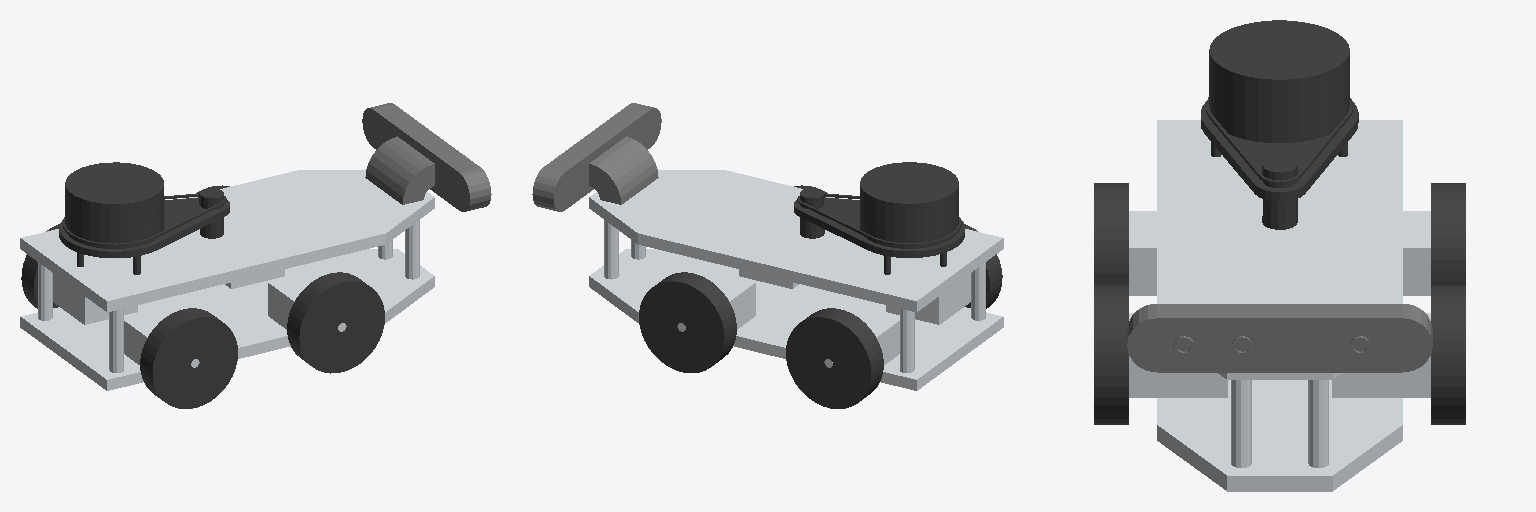
URDF robot description (text_car):
<?xml version="1.0" encoding="utf-8"?>
<!-- This URDF was automatically created by SolidWorks to URDF Exporter! Originally created by [author] ([email redacted]) 
     Commit Version: 1.5.1-0-g916b5db  Build Version: 1.5.7152.31018
     For more information, please see http://wiki.ros.org/sw_urdf_exporter -->
<robot
  name="text_car">
  <link
    name="base_link">
    <inertial>
      <origin
        xyz="0.0050911 4.8892E-07 0.01783"
        rpy="0 0 0" />
      <mass
        value="0.42367" />
      <inertia
        ixx="0.00033421"
        ixy="-1.3671E-08"
        ixz="-8.3492E-06"
        iyy="0.00091098"
        iyz="-4.4951E-10"
        izz="0.0010494" />
    </inertial>
    <visual>
      <origin
        xyz="0 0 0"
        rpy="0 0 0" />
      <geometry>
        <mesh
          filename="package://text_car/meshes/base_link.STL" />
      </geometry>
      <material
        name="">
        <color
          rgba="0.89804 0.91765 0.92941 1" />
      </material>
    </visual>
    <collision>
      <origin
        xyz="0 0 0"
        rpy="0 0 0" />
      <geometry>
        <mesh
          filename="package://text_car/meshes/base_link.STL" />
      </geometry>
    </collision>
  </link>
  <link
    name="wheel_lf_link">
    <inertial>
      <origin
        xyz="0 6.9389E-18 0"
        rpy="0 0 0" />
      <mass
        value="0.014421" />
      <inertia
        ixx="1.5767E-06"
        ixy="2.3673E-22"
        ixz="3.9409E-23"
        iyy="2.9131E-06"
        iyz="1.0804E-22"
        izz="1.5767E-06" />
    </inertial>
    <visual>
      <origin
        xyz="0 0 0"
        rpy="0 0 0" />
      <geometry>
        <mesh
          filename="package://text_car/meshes/wheel_lf_link.STL" />
      </geometry>
      <material
        name="">
        <color
          rgba="0.29804 0.29804 0.29804 1" />
      </material>
    </visual>
    <collision>
      <origin
        xyz="0 0 0"
        rpy="0 0 0" />
      <geometry>
        <mesh
          filename="package://text_car/meshes/wheel_lf_link.STL" />
      </geometry>
    </collision>
  </link>
  <joint
    name="wheel_lf_joint"
    type="continuous">
    <origin
      xyz="0.030252 0.047909 0.0125"
      rpy="0 0 0" />
    <parent
      link="base_link" />
    <child
      link="wheel_lf_link" />
    <axis
      xyz="0 1 0" />
  </joint>
  <link
    name="wheel_lb_link">
    <inertial>
      <origin
        xyz="0 0 0"
        rpy="0 0 0" />
      <mass
        value="0.0144212674480035" />
      <inertia
        ixx="1.57672524098172E-06"
        ixy="1.13741391677082E-22"
        ixz="5.13225232109595E-23"
        iyy="2.91309602449671E-06"
        iyz="-8.7136673847894E-23"
        izz="1.57672524098172E-06" />
    </inertial>
    <visual>
      <origin
        xyz="0 0 0"
        rpy="0 0 0" />
      <geometry>
        <mesh
          filename="package://text_car/meshes/wheel_lb_link.STL" />
      </geometry>
      <material
        name="">
        <color
          rgba="0.298039215686275 0.298039215686275 0.298039215686275 1" />
      </material>
    </visual>
    <collision>
      <origin
        xyz="0 0 0"
        rpy="0 0 0" />
      <geometry>
        <mesh
          filename="package://text_car/meshes/wheel_lb_link.STL" />
      </geometry>
    </collision>
  </link>
  <joint
    name="wheel_lb_joint"
    type="continuous">
    <origin
      xyz="-0.038232 0.047909 0.0125"
      rpy="0 0 0" />
    <parent
      link="base_link" />
    <child
      link="wheel_lb_link" />
    <axis
      xyz="0 1 0" />
  </joint>
  <link
    name="wheel_rf_link">
    <inertial>
      <origin
        xyz="-3.46944695195361E-18 0 0"
        rpy="0 0 0" />
      <mass
        value="0.0144212674480035" />
      <inertia
        ixx="1.57672524098172E-06"
        ixy="-3.87159848409819E-22"
        ixz="-1.18932259744173E-22"
        iyy="2.91309602449671E-06"
        iyz="1.50858585557156E-23"
        izz="1.57672524098172E-06" />
    </inertial>
    <visual>
      <origin
        xyz="0 0 0"
        rpy="0 0 0" />
      <geometry>
        <mesh
          filename="package://text_car/meshes/wheel_rf_link.STL" />
      </geometry>
      <material
        name="">
        <color
          rgba="0.298039215686275 0.298039215686275 0.298039215686275 1" />
      </material>
    </visual>
    <collision>
      <origin
        xyz="0 0 0"
        rpy="0 0 0" />
      <geometry>
        <mesh
          filename="package://text_car/meshes/wheel_rf_link.STL" />
      </geometry>
    </collision>
  </link>
  <joint
    name="wheel_rf_joint"
    type="continuous">
    <origin
      xyz="0.030252 -0.047909 0.0125"
      rpy="0 0 0" />
    <parent
      link="base_link" />
    <child
      link="wheel_rf_link" />
    <axis
      xyz="0 1 0" />
  </joint>
  <link
    name="wheel_rb_link">
    <inertial>
      <origin
        xyz="0 6.93889390390723E-18 0"
        rpy="0 0 0" />
      <mass
        value="0.0144212674480035" />
      <inertia
        ixx="1.57672524098172E-06"
        ixy="-4.25809202176743E-23"
        ixz="-1.29580291984578E-23"
        iyy="2.91309602449671E-06"
        iyz="-2.51093328731628E-23"
        izz="1.57672524098172E-06" />
    </inertial>
    <visual>
      <origin
        xyz="0 0 0"
        rpy="0 0 0" />
      <geometry>
        <mesh
          filename="package://text_car/meshes/wheel_rb_link.STL" />
      </geometry>
      <material
        name="">
        <color
          rgba="0.298039215686275 0.298039215686275 0.298039215686275 1" />
      </material>
    </visual>
    <collision>
      <origin
        xyz="0 0 0"
        rpy="0 0 0" />
      <geometry>
        <mesh
          filename="package://text_car/meshes/wheel_rb_link.STL" />
      </geometry>
    </collision>
  </link>
  <joint
    name="wheel_rb_joint"
    type="continuous">
    <origin
      xyz="-0.038232 -0.047909 0.0125"
      rpy="0 0 0" />
    <parent
      link="base_link" />
    <child
      link="wheel_rb_link" />
    <axis
      xyz="0 1 0" />
  </joint>
  <link
    name="rplidar_link">
    <inertial>
      <origin
        xyz="0.00344036966251345 7.37749433192095E-06 -0.00328997391799356"
        rpy="0 0 0" />
      <mass
        value="0.0440853117929136" />
      <inertia
        ixx="6.76917054352029E-06"
        ixy="-1.40414731456132E-08"
        ixz="1.58932195930401E-06"
        iyy="1.25441705125978E-05"
        iyz="3.77814582231421E-09"
        izz="1.45513282037576E-05" />
    </inertial>
    <visual>
      <origin
        xyz="0 0 0"
        rpy="0 0 0" />
      <geometry>
        <mesh
          filename="package://text_car/meshes/rplidar_link.STL" />
      </geometry>
      <material
        name="">
        <color
          rgba="0.298039215686275 0.298039215686275 0.298039215686275 1" />
      </material>
    </visual>
    <collision>
      <origin
        xyz="0 0 0"
        rpy="0 0 0" />
      <geometry>
        <mesh
          filename="package://text_car/meshes/rplidar_link.STL" />
      </geometry>
    </collision>
  </link>
  <joint
    name="rplidar_joint"
    type="fixed">
    <origin
      xyz="-0.045021 -0.00011645 0.063251"
      rpy="0 0 0" />
    <parent
      link="base_link" />
    <child
      link="rplidar_link" />
    <axis
      xyz="0 0 0" />
  </joint>
  <link
    name="camera_link">
    <inertial>
      <origin
        xyz="0.00205204505572645 -1.26847037710518E-05 -0.00103131655560996"
        rpy="0 0 0" />
      <mass
        value="0.0189293135624072" />
      <inertia
        ixx="9.07321514973935E-06"
        ixy="2.02846156791509E-09"
        ixz="-1.88593898021402E-07"
        iyy="1.13641781578178E-06"
        iyz="2.15387339277057E-10"
        izz="9.32147953453488E-06" />
    </inertial>
    <visual>
      <origin
        xyz="0 0 0"
        rpy="0 0 0" />
      <geometry>
        <mesh
          filename="package://text_car/meshes/camera_link.STL" />
      </geometry>
      <material
        name="">
        <color
          rgba="0.525490196078431 0.525490196078431 0.525490196078431 1" />
      </material>
    </visual>
    <collision>
      <origin
        xyz="0 0 0"
        rpy="0 0 0" />
      <geometry>
        <mesh
          filename="package://text_car/meshes/camera_link.STL" />
      </geometry>
    </collision>
  </link>
  <joint
    name="camera_joint"
    type="fixed">
    <origin
      xyz="0.095248 0 0.050634"
      rpy="0 0 0" />
    <parent
      link="base_link" />
    <child
      link="camera_link" />
    <axis
      xyz="0 0 0" />
  </joint>
  <link name="base_footprint">
      <visual>
          <origin xyz="0 0 0" rpy="0 0 0" />
          <geometry>
              <box size="0.001 0.001 0.001" />
          </geometry>
      </visual>
  </link>

  <joint name="base_footprint_joint" type="fixed">
      <origin xyz="0 0 0.033" rpy="0 0 0" />        
      <parent link="base_footprint"/>
      <child link="base_link" />
  </joint>

  <gazebo reference="base_link">
    <material>Gazebo/Orange</material>
  </gazebo>
  <gazebo reference="rplidar_link">
    <material>Gazebo/Grey</material>
  </gazebo>
  <gazebo reference="wheel_lf_link">
    <material>Gazebo/Black</material>
  </gazebo>
  <gazebo reference="wheel_lb_link">
    <material>Gazebo/Black</material>
  </gazebo>
  <gazebo reference="wheel_rf_link">
    <material>Gazebo/Black</material>
  </gazebo>
  <gazebo reference="wheel_rb_link">
    <material>Gazebo/Black</material>
  </gazebo>
  <gazebo reference="camera_link">
    <material>Gazebo/Grey</material>
  </gazebo>

  <gazebo>
    <plugin name="skid_steer_drive_controller" filename="libgazebo_ros_skid_steer_drive.so">
      <updateRate>100.0</updateRate>
      <robotNamespace>/</robotNamespace>
      <leftFrontJoint>wheel_lf_joint</leftFrontJoint>
      <rightFrontJoint>wheel_rf_joint</rightFrontJoint>
      <leftRearJoint>wheel_lb_joint</leftRearJoint>
      <rightRearJoint>wheel_rb_joint</rightRearJoint>
      <wheelSeparation>0.68</wheelSeparation>
      <wheelDiameter>0.2</wheelDiameter>
      <robotBaseFrame>base_footprint</robotBaseFrame>
      <torque>20</torque>
      <topicName>cmd_vel</topicName>
      <broadcastTF>1</broadcastTF>
    </plugin>
  </gazebo>

  <gazebo reference="rplidar_link">
      <sensor type="ray" name="rplidar">
          <pose>0 0 0 0 0 0</pose>
          <visualize>false</visualize>
          <update_rate>40</update_rate>
          <ray>
              <scan>
                <horizontal>
                  <samples>360</samples>
                  <resolution>1</resolution>
                  <min_angle>-3</min_angle>
                  <max_angle>3</max_angle>
                </horizontal>
              </scan>
              <range>
                <min>0.13</min>
                <max>6.0</max>
                <resolution>0.01</resolution>
              </range>
              <noise>
                <type>gaussian</type>
                <mean>0.0</mean>
                <stddev>0.01</stddev>
              </noise>
          </ray>
          <plugin name="gazebo_rplidar" filename="libgazebo_ros_laser.so">
              <topicName>/scan</topicName>
              <frameName>rplidar_link</frameName>
          </plugin>
      </sensor>
  </gazebo>

  <gazebo reference="camera_link">
      <sensor type="depth" name="camera">
          <always_on>true</always_on>
          <update_rate>20.0</update_rate>
          <camera>
              <horizontal_fov>1.04</horizontal_fov>
              <image>
                  <format>R8G8B8</format>
                  <width>640</width>
                  <height>480</height>
              </image>
              <clip>
                  <near>0.05</near>
                  <far>8.0</far>
              </clip>
          </camera>
          <plugin name="kinect_camera_controller" filename="libgazebo_ros_openni_kinect.so">
              <cameraName>camera</cameraName>
              <alwaysOn>true</alwaysOn>
              <updateRate>10</updateRate>
              <imageTopicName>rgb/image_raw</imageTopicName>
              <depthImageTopicName>depth/image_raw</depthImageTopicName>
              <pointCloudTopicName>depth/points</pointCloudTopicName>
              <cameraInfoTopicName>rgb/camera_info</cameraInfoTopicName>
              <depthImageCameraInfoTopicName>depth/camera_info</depthImageCameraInfoTopicName>
              <frameName>camera_frame_optical</frameName>
              <baseline>0.1</baseline>
              <distortion_k1>0.0</distortion_k1>
              <distortion_k2>0.0</distortion_k2>
              <distortion_k3>0.0</distortion_k3>
              <distortion_t1>0.0</distortion_t1>
              <distortion_t2>0.0</distortion_t2>
              <pointCloudCutoff>0.4</pointCloudCutoff>
          </plugin>
      </sensor>
  </gazebo>
</robot>

--- What the picture shows (computed from the rendered views, not written in the file) ---
The picture shows the robot from 3 angles, left to right: view 1: azimuth 30°, elevation 25°; view 2: azimuth 150°, elevation 25°; view 3: azimuth 270°, elevation 25°; orthographic projection.
Model text_car with 8 links and 7 joints (4 continuous, 3 fixed), rooted at base_footprint, posed every joint at zero.
Links seen in each view (by area): view 1: base_link, rplidar_link, camera_link, wheel_rf_link, wheel_rb_link, wheel_lb_link; view 2: base_link, rplidar_link, camera_link, wheel_lf_link, wheel_lb_link, wheel_rb_link; view 3: base_link, rplidar_link, camera_link, wheel_lf_link, wheel_rf_link, wheel_lb_link, wheel_rb_link.
Link boxes in pixels (x1,y1,x2,y2): base_link: (20, 170, 434, 390); rplidar_link: (59, 162, 229, 274); camera_link: (362, 103, 491, 211); wheel_rf_link: (287, 272, 384, 373); wheel_rb_link: (140, 308, 237, 408); wheel_lb_link: (21, 224, 59, 308); base_link: (589, 170, 1003, 390); rplidar_link: (794, 162, 964, 274); camera_link: (532, 103, 661, 211); wheel_lf_link: (639, 272, 736, 372); wheel_lb_link: (786, 308, 883, 408); wheel_rb_link: (964, 224, 1002, 308); base_link: (1129, 120, 1430, 491); rplidar_link: (1201, 20, 1358, 229); camera_link: (1127, 304, 1432, 372); wheel_lf_link: (1431, 285, 1465, 424); wheel_rf_link: (1094, 285, 1128, 424); wheel_lb_link: (1431, 183, 1465, 284); wheel_rb_link: (1094, 183, 1128, 284).
Bounding box of the posed robot: 0.1752 × 0.1058 × 0.1065 m (x, y, z).
7 mesh visuals loaded from 7 distinct referenced files (7 binary STL).
